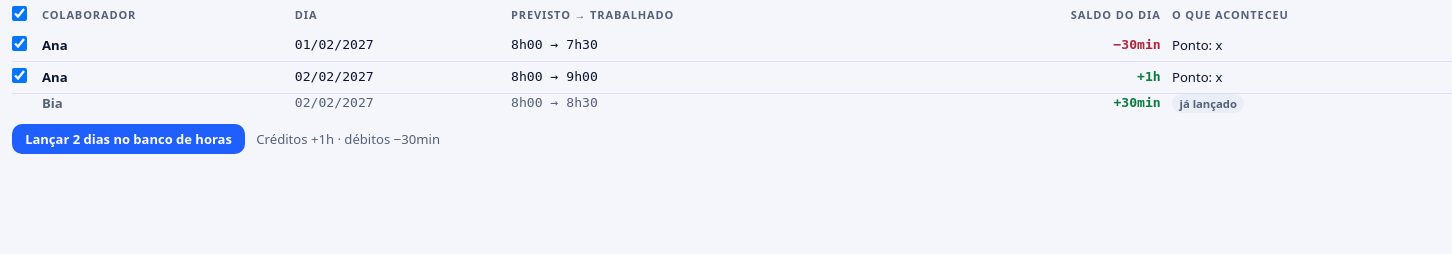
Test: ListaApuracao › mostra os recusados com o motivo e o nome
The image size is (1452, 254).
Click the button "Lançar 2 dias no banco de horas" at [128, 139], box [12,124,245,154]
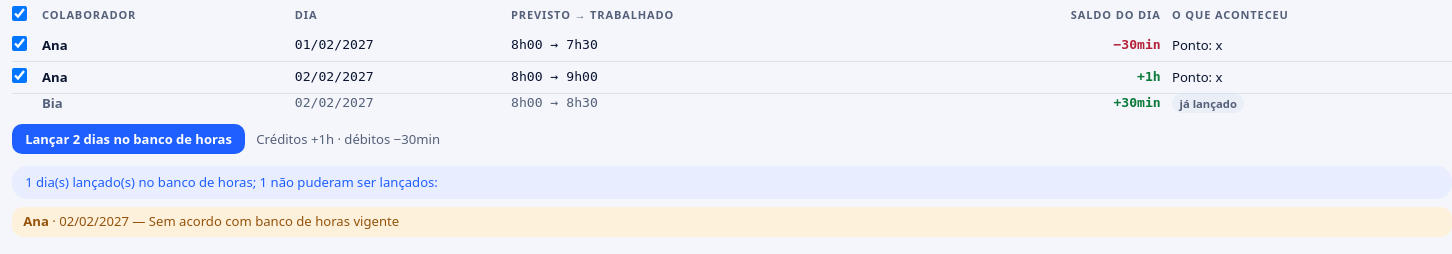
Result: the list item "Ana · 02/02/2027 — Sem acordo com banco de horas vigente" is shown at [12,207,1451,237]
Result: the text "1 dia(s) lançado(s) no banco de horas; 1 não puderam ser lançados:" is shown at [12,166,1451,199]
